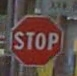stop: (9, 13, 63, 68)
